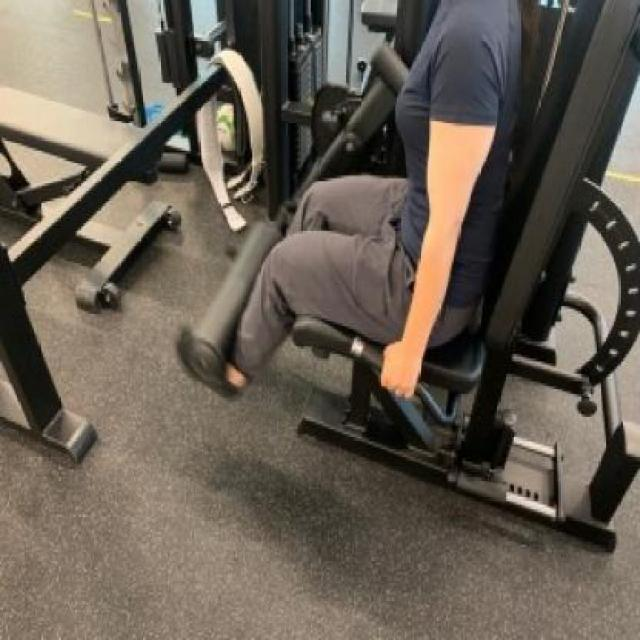leg extension: (140, 0, 640, 569)
